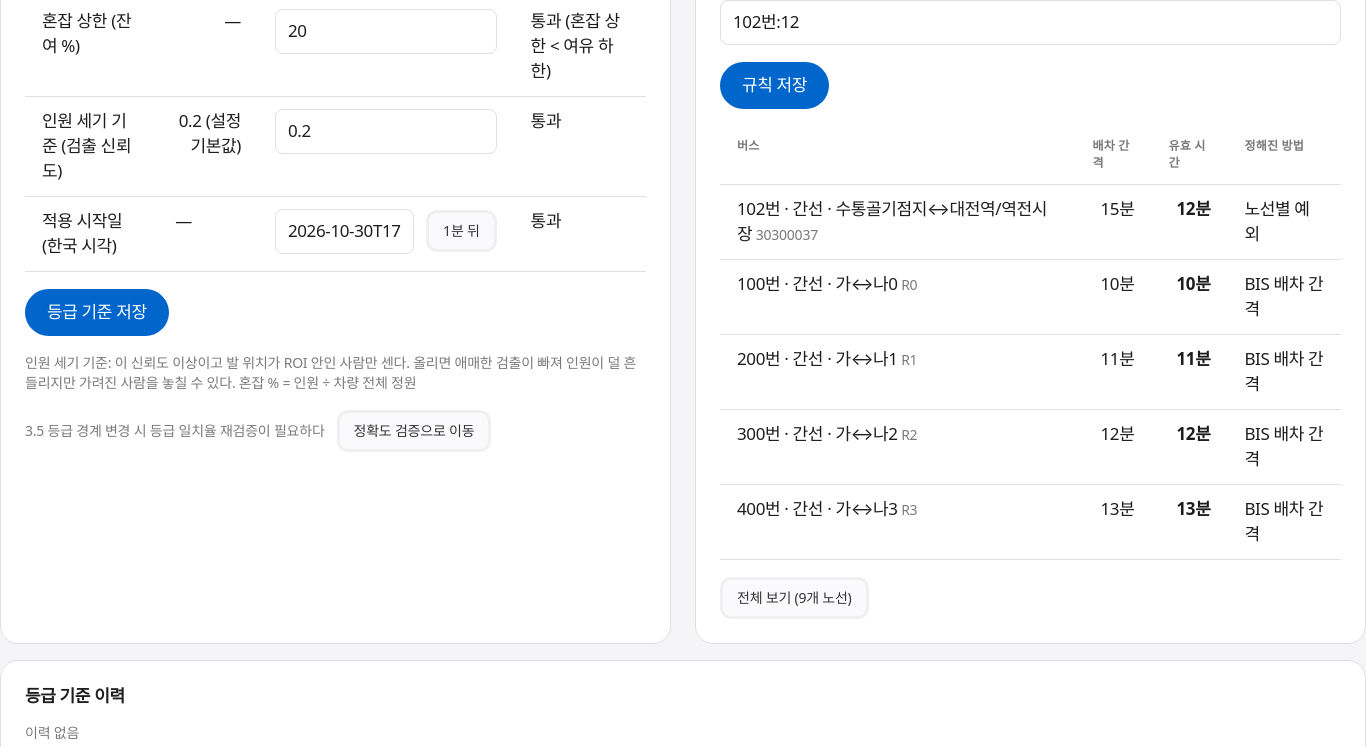
Test case: 3.3 혼잡도 유효 시간 › 버스 번호로 보이고, 예외 노선이 먼저, 처음엔 5개만 — 펼치면 전부
This screenshot has width=1366, height=747.
(page scrolled)
Expected: the text "102번 · 간선 · 수통골기점지↔대전역/역전시장" is shown, [737, 197, 1047, 245]
Expected: the text "노선별 예외" is shown, [1227, 184, 1341, 259]
Click the button "전체 보기 (9개 노선)" at x=794, y=598, box [720, 576, 869, 618]
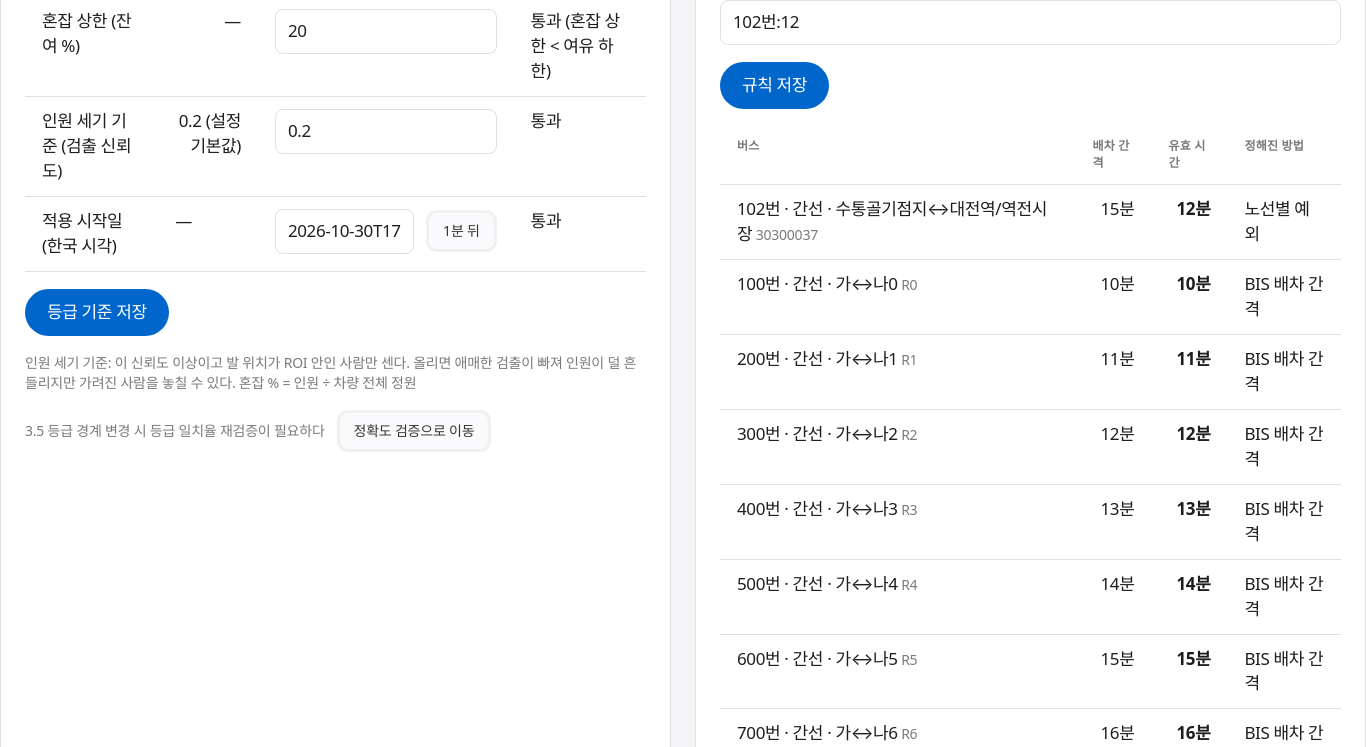
Expected: the field labelled "노선별 예외 (버스 번호:분, 쉼표 구분 — 예: 102번:12, 311:8)" holds "102번:12", [720, 0, 1341, 45]
Now the text "700번 · 간선 · 가↔나6 R6" is shown 2 times
